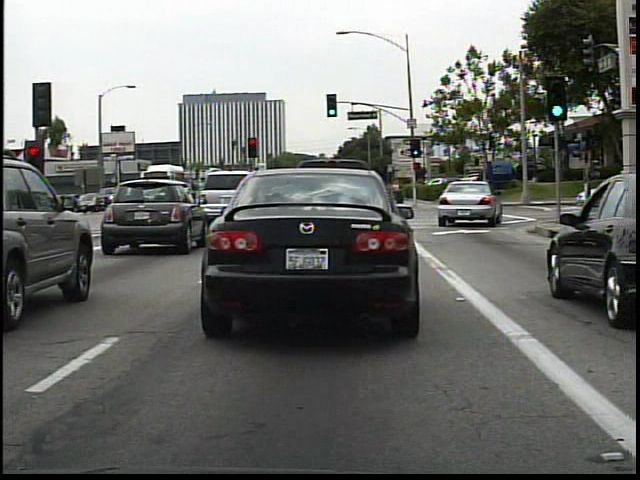person: (386, 175, 406, 210)
